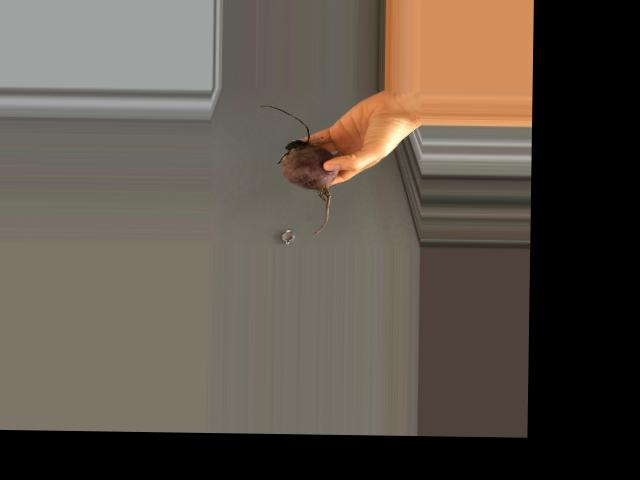beet: (257, 104, 339, 235)
